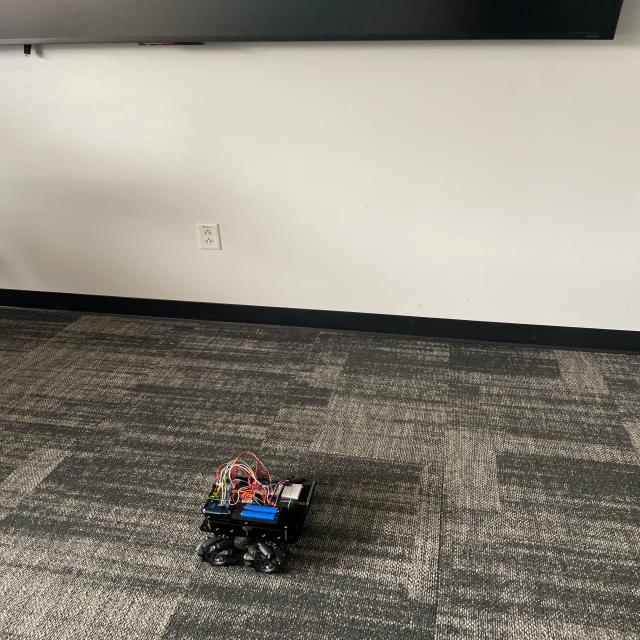ArduinoCar: (186, 446, 322, 569)
